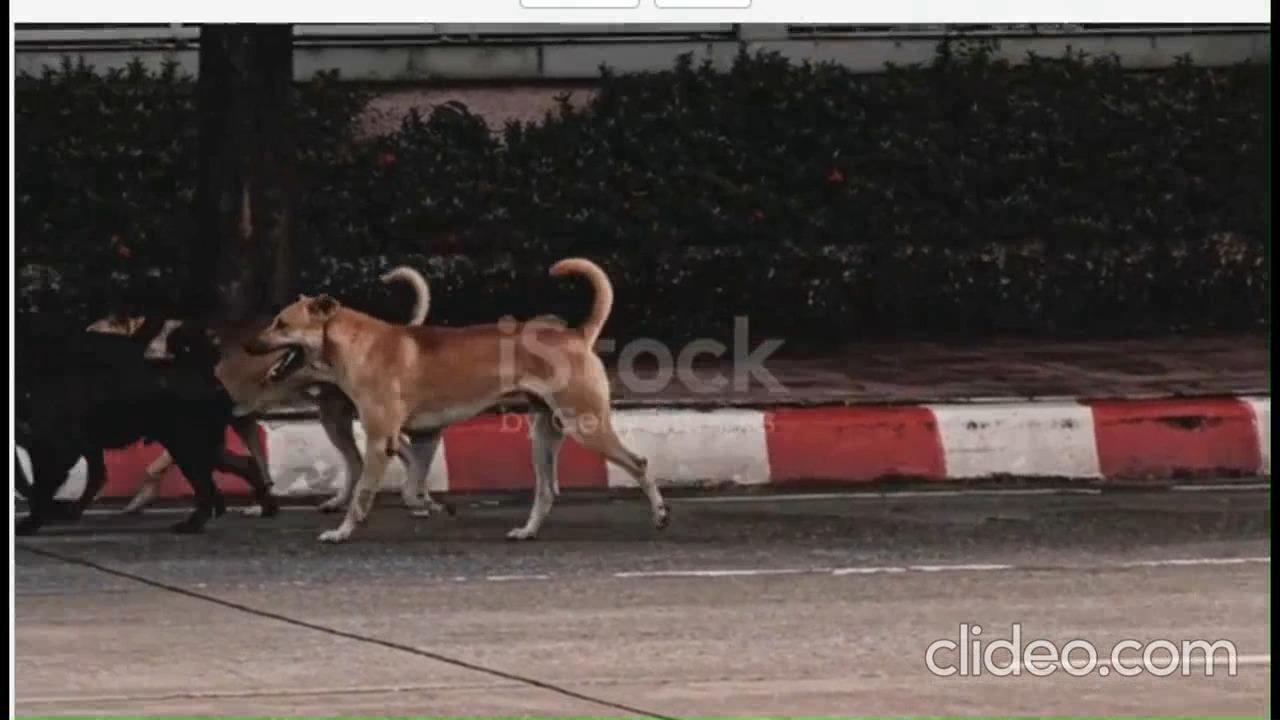dog: (246, 254, 678, 529)
